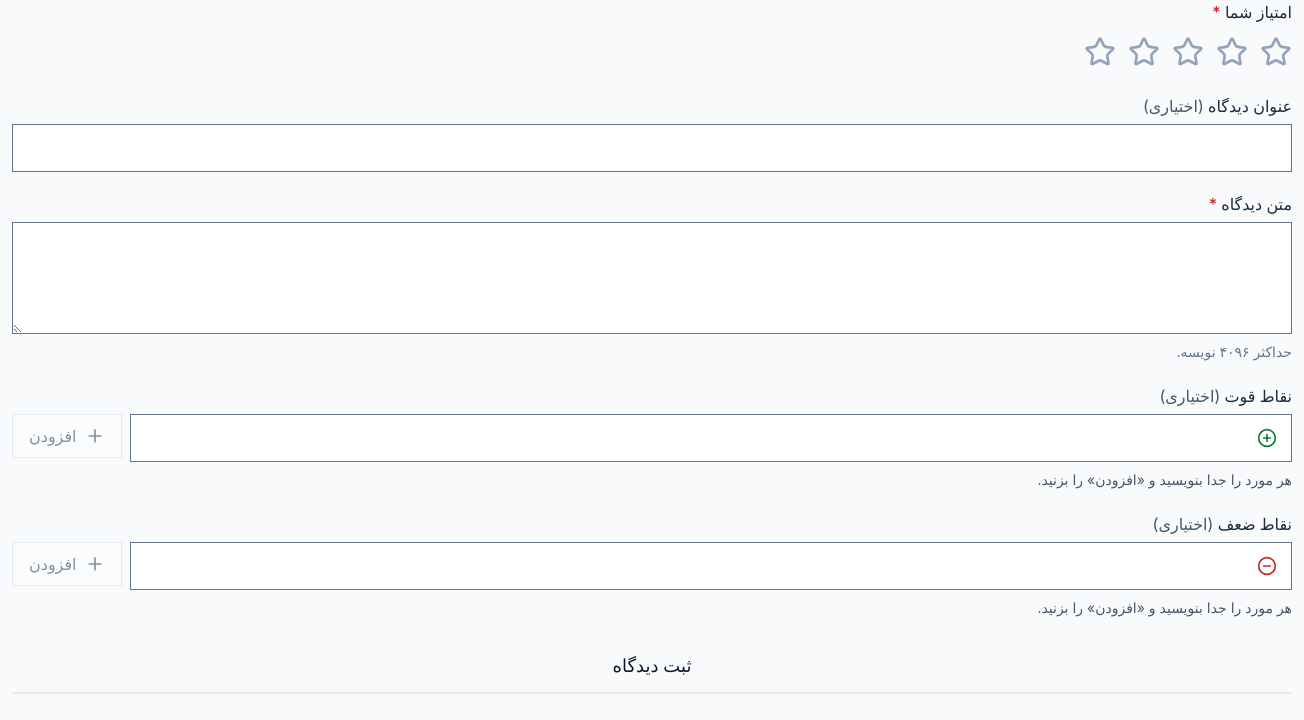
the API’s answers › 429: the wait on the button, nothing sent while it runs
The image size is (1304, 720).
Later steps or results of the test are not shown.
Click the radio button named "۲ ستاره: بد" at (1232,52), box [1216,36,1248,68]
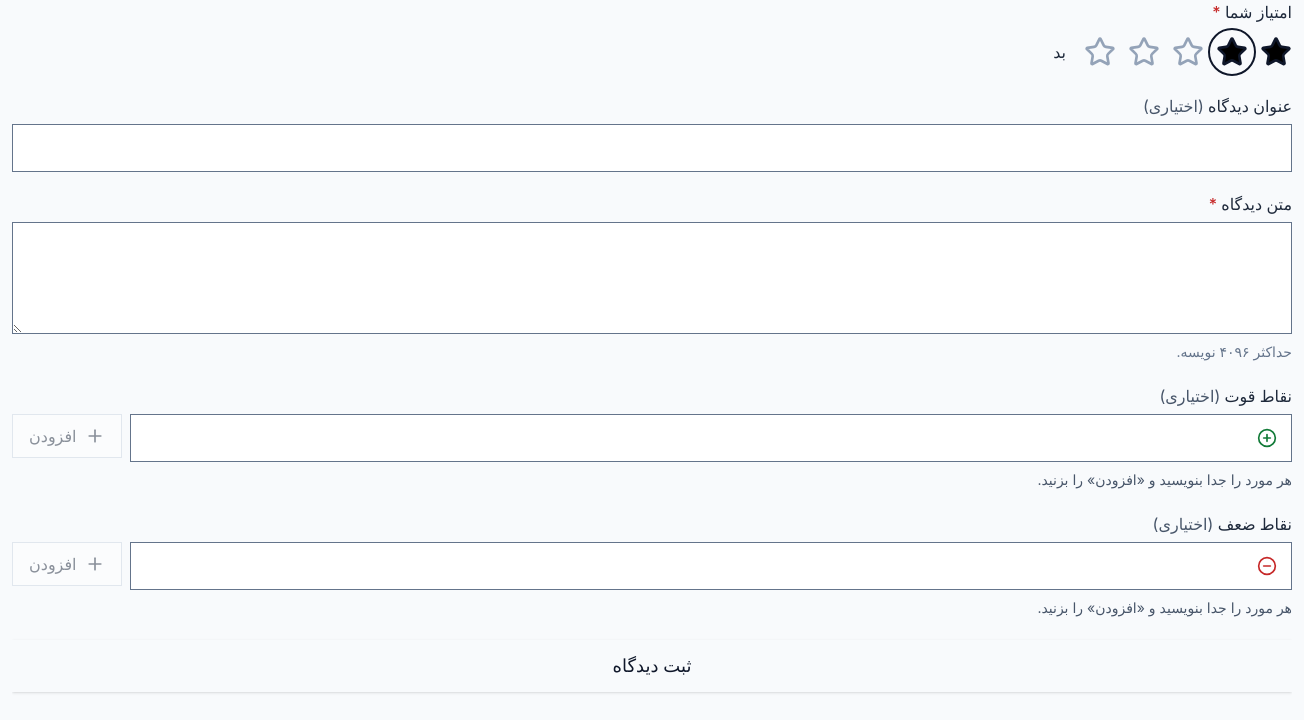
Type "متن" into the text box labelled "متن دیدگاه *" at (652,278), box [12,222,1292,334]
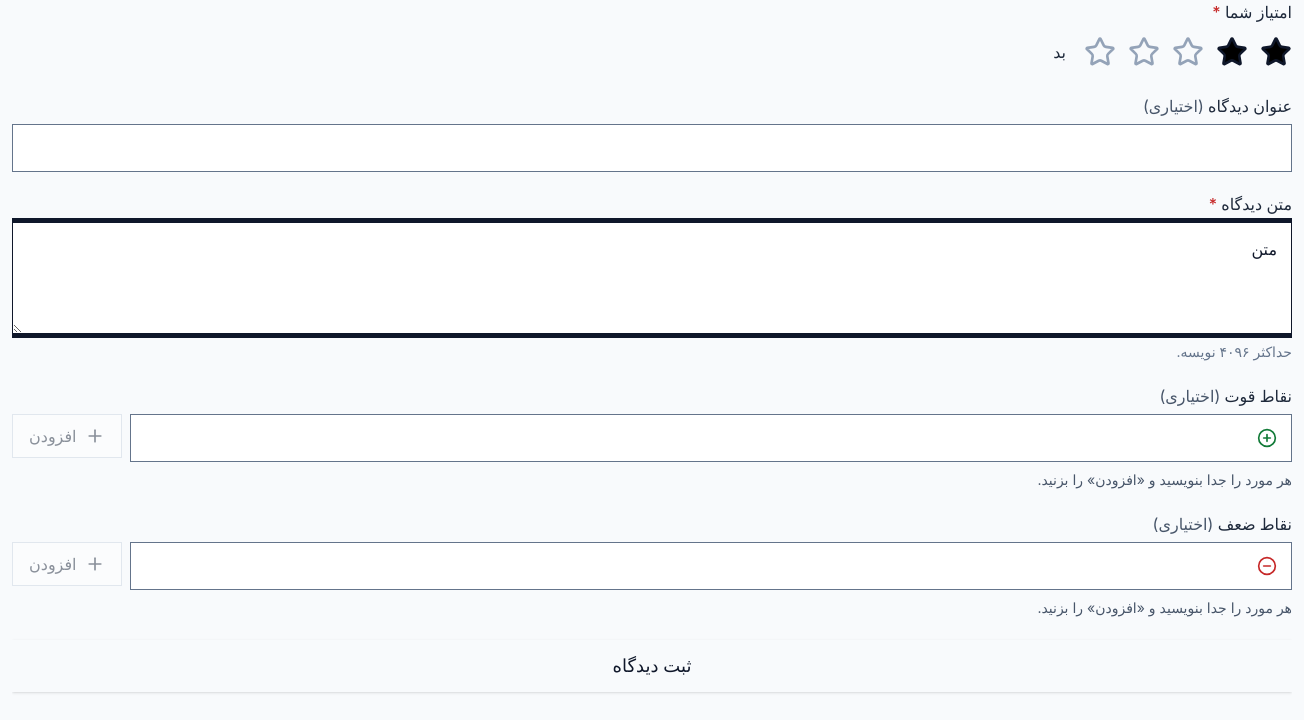
Click the button "ثبت دیدگاه" at (652,666), box [12,640,1292,692]
(page scrolled)
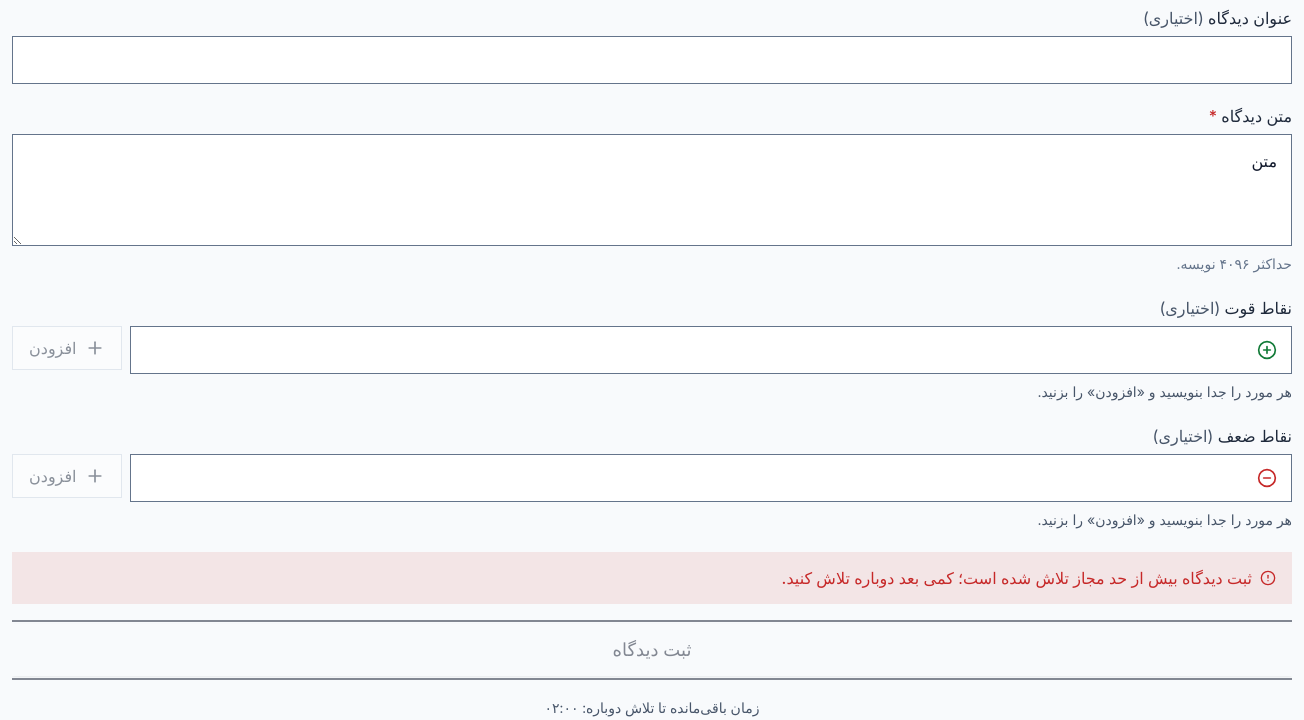
Check: the text "زمان باقی‌مانده تا تلاش دوباره: ۰۲:۰۰" is shown, box [545,699,759,716]
